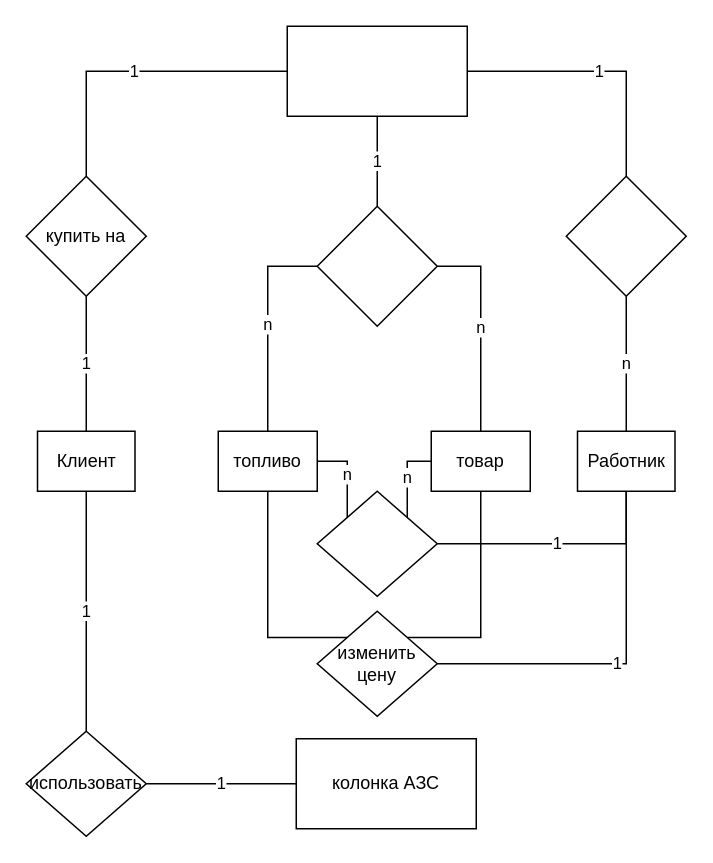
Image size: 713x863. Some labels were removed from this diagram. Here are the shapes that lost their labels. From the top down, the centre of each, then its label:
pixel 376 70: АЗС
pixel 625 235: работает на
pixel 376 265: продать
pixel 376 543: пополнить количество
